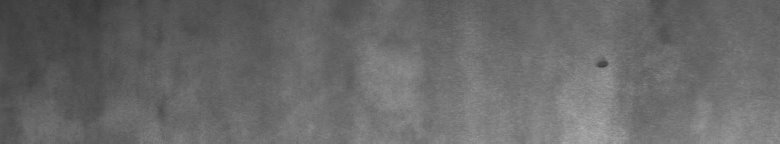fi: (592, 52, 617, 76)
